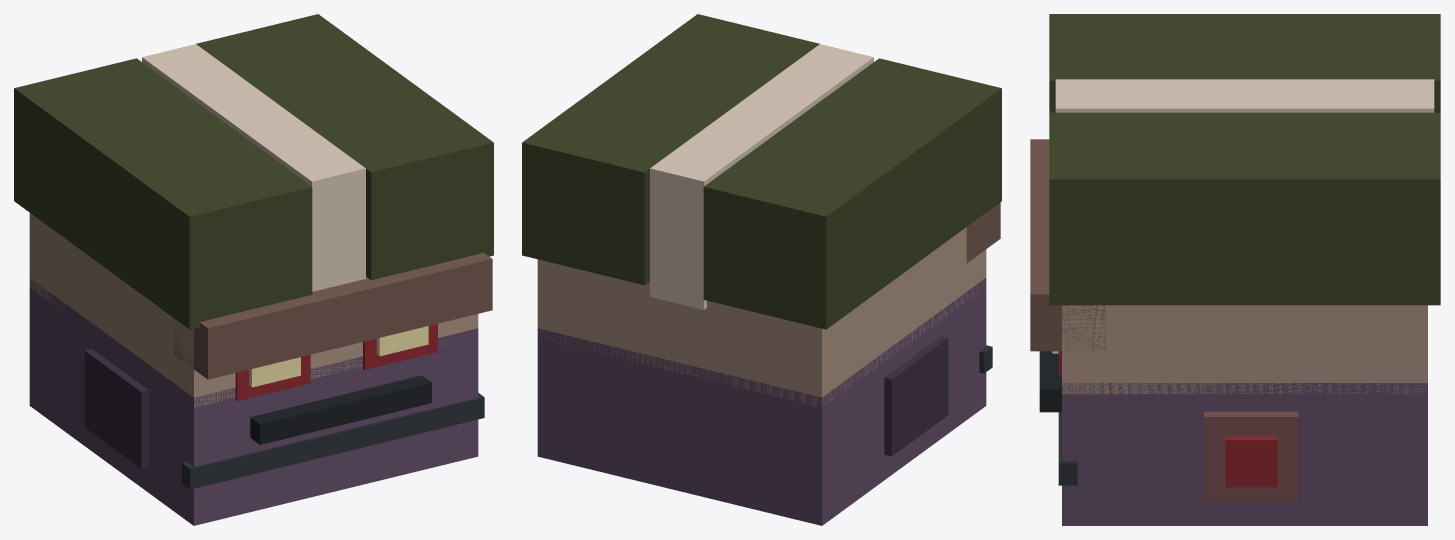
File: inf_brute_head.fbx
The picture shows the model from 3 angles, left to right: view 1: azimuth 30°, elevation 25°; view 2: azimuth 150°, elevation 25°; view 3: azimuth 270°, elevation 25°; orthographic projection. The views are drawn at different scales.
Visible parts, largest first — view 1: inf_brute_head; view 2: inf_brute_head; view 3: inf_brute_head.
Part boxes in pixels (left/top/right/bottom): inf_brute_head: left=14, top=14, right=493, bottom=525; inf_brute_head: left=522, top=14, right=1001, bottom=525; inf_brute_head: left=1030, top=14, right=1440, bottom=525.
Size of the model in its own units: 127 by 124 by 130.
